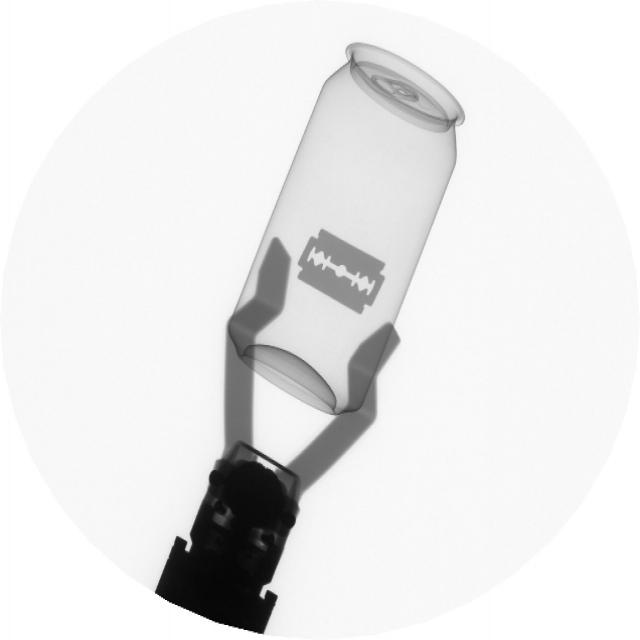BLADE: (289, 221, 393, 326)
